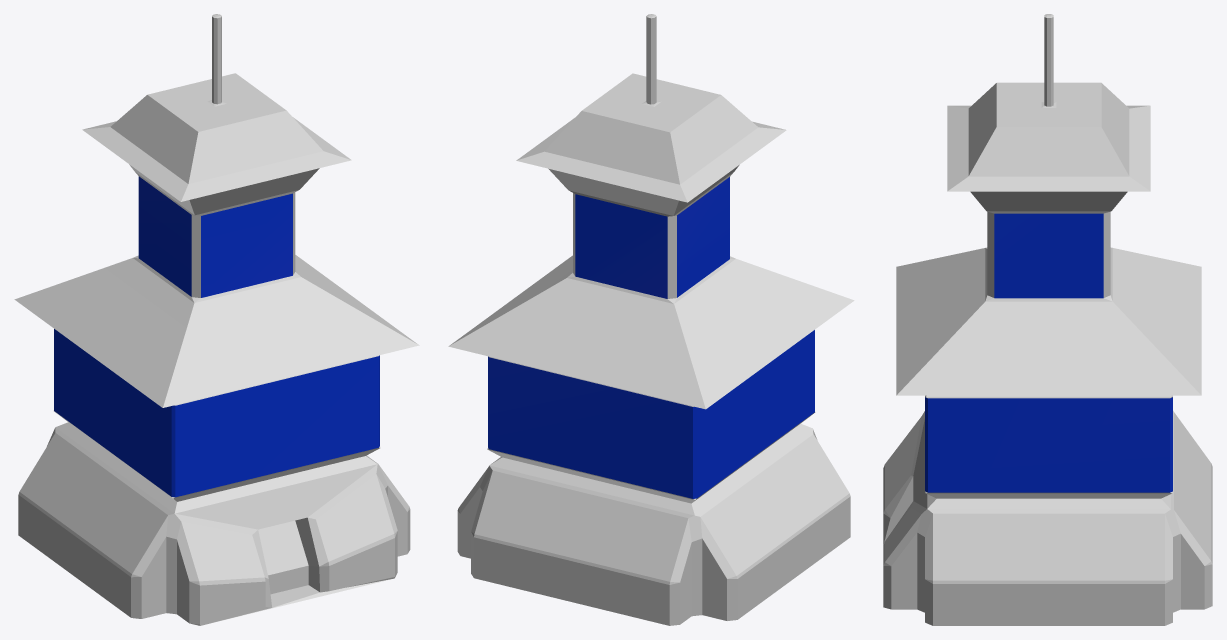
Rendered from House4(Updated).fbx.
3 views of the same model, side by side, from view 1: azimuth 30°, elevation 25°; view 2: azimuth 150°, elevation 25°; view 3: azimuth 270°, elevation 25° (orthographic). The views are drawn at different scales.
Parts seen in each view (by area): view 1: Cube; view 2: Cube; view 3: Cube.
Boxes of the visible parts, bbox=[...] form: Cube: bbox=[14, 14, 419, 625]; Cube: bbox=[448, 14, 854, 625]; Cube: bbox=[883, 14, 1212, 625].
Bounding box in the file's own units: 13.41 × 24.22 × 13.3.
